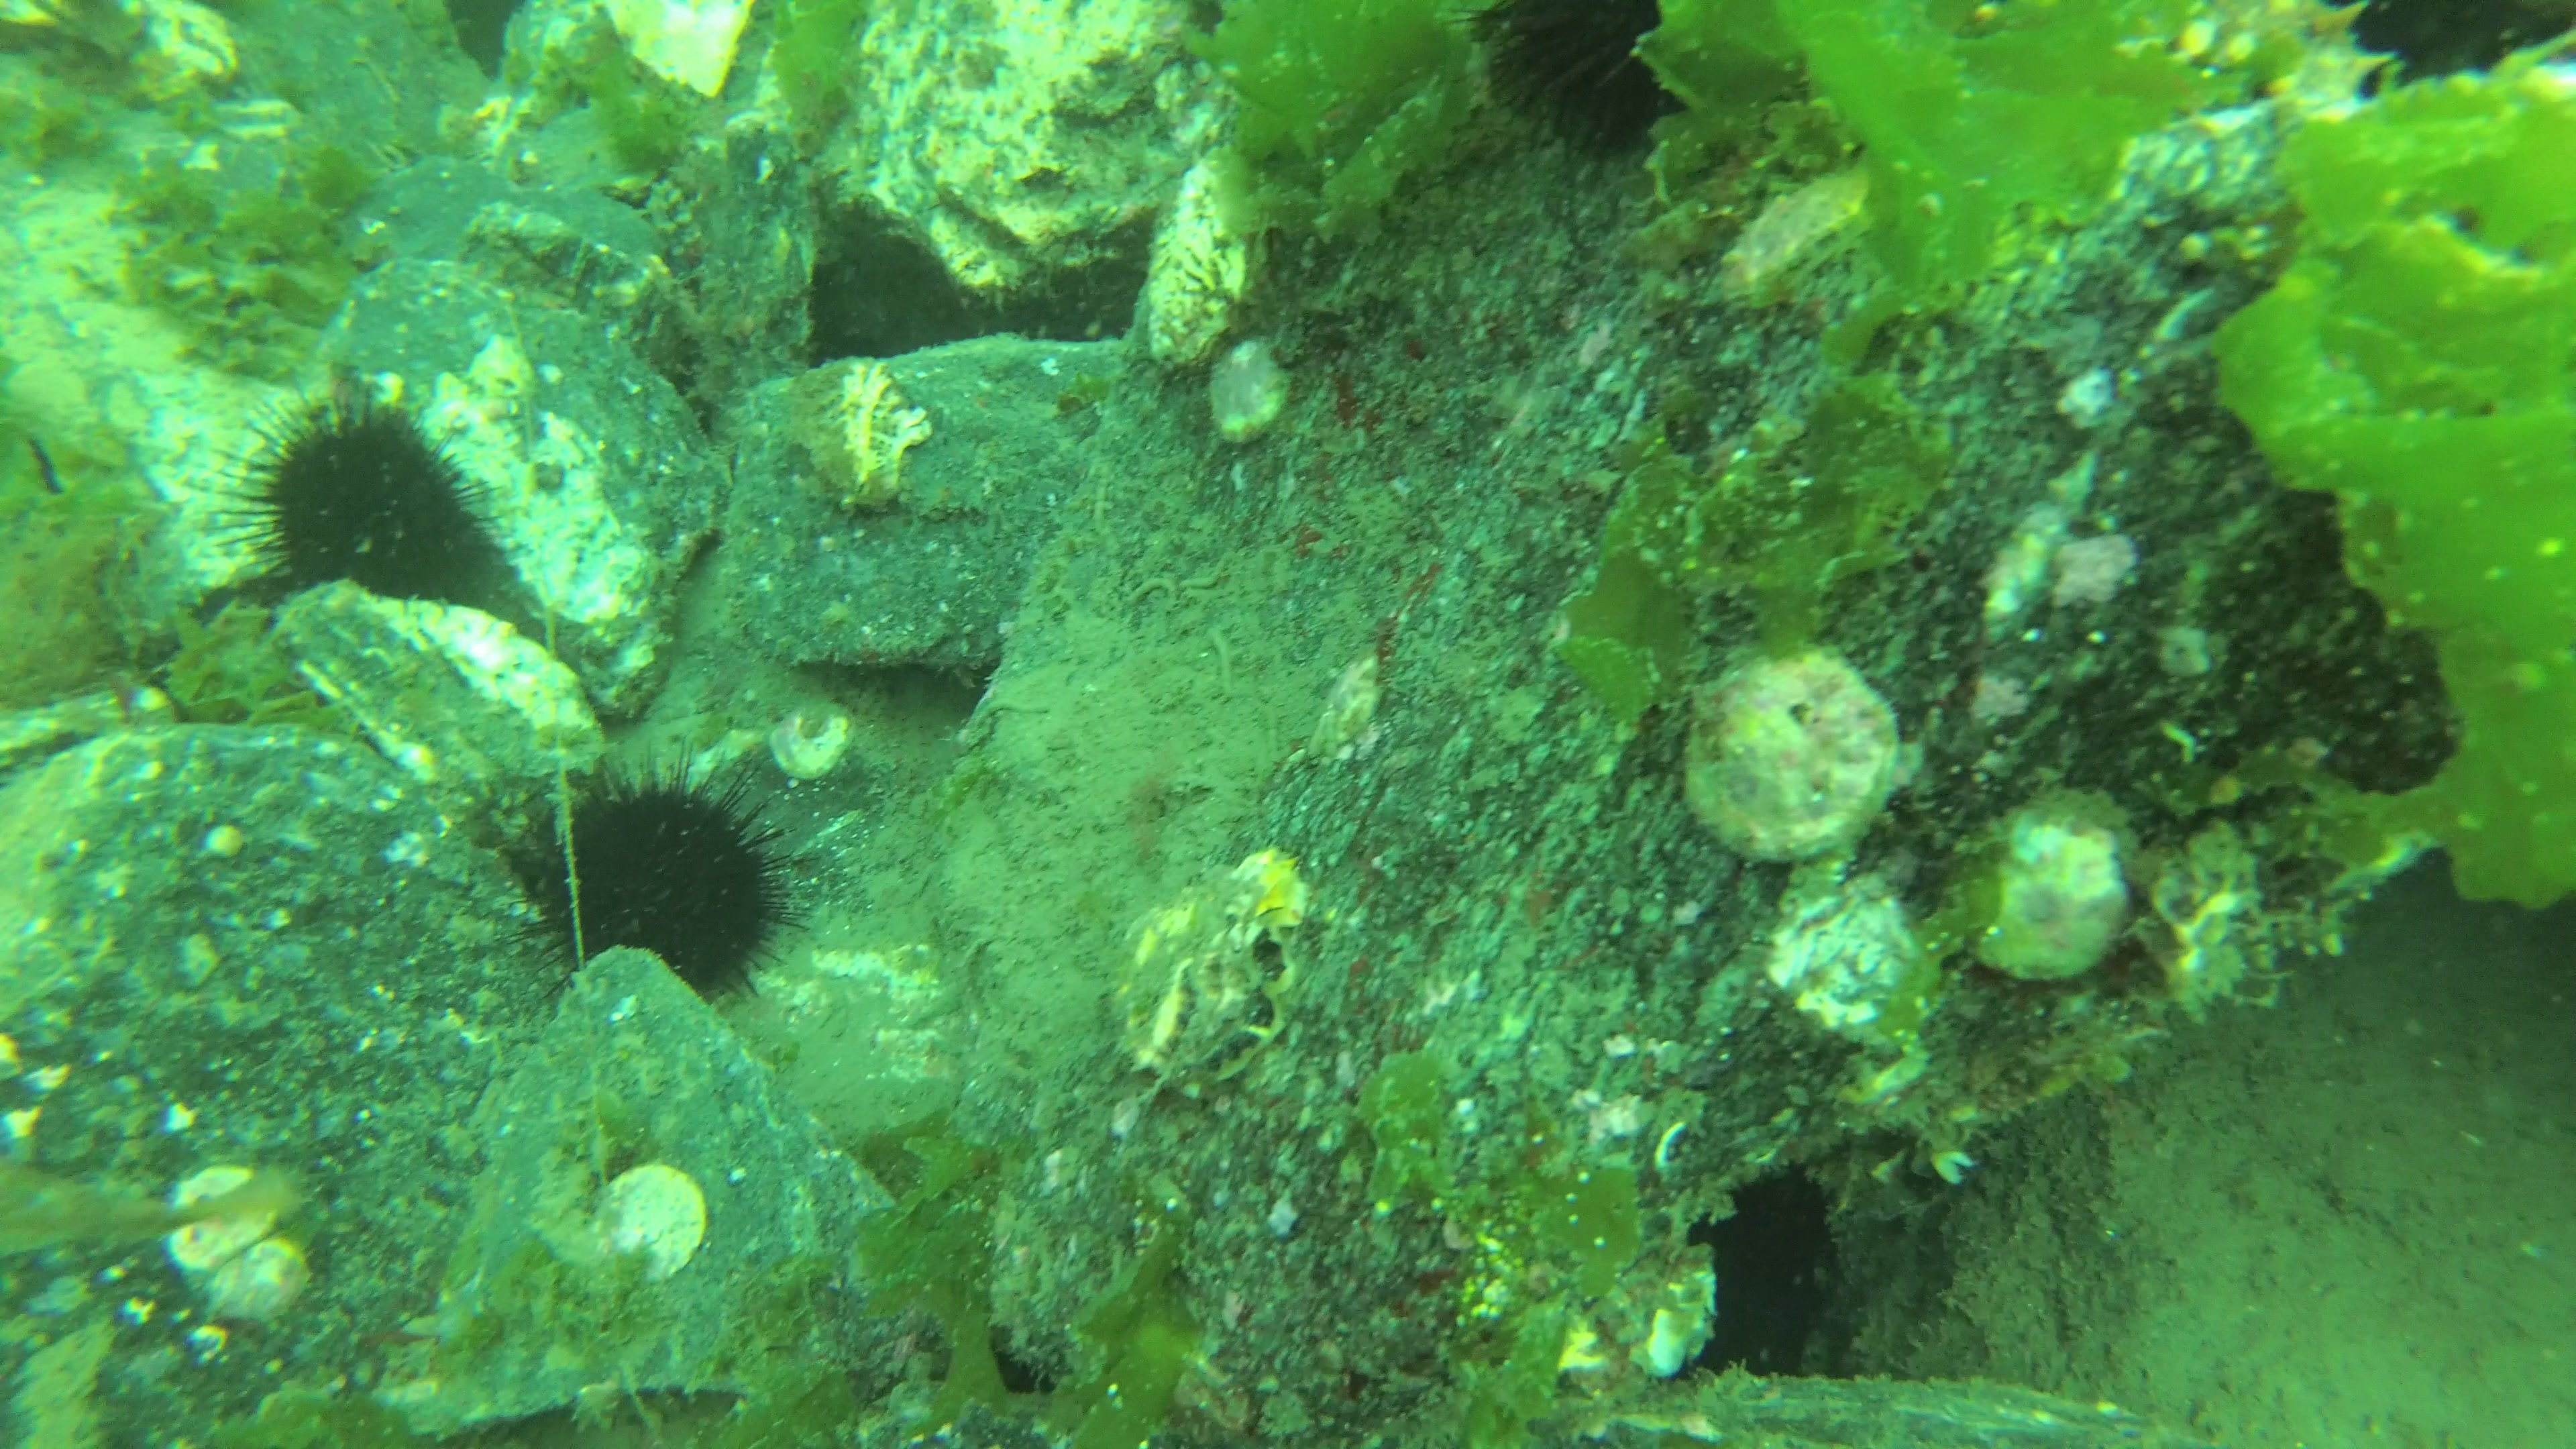echinus: (483, 748, 814, 1012), (207, 373, 529, 632), (1437, 4, 1695, 177)
